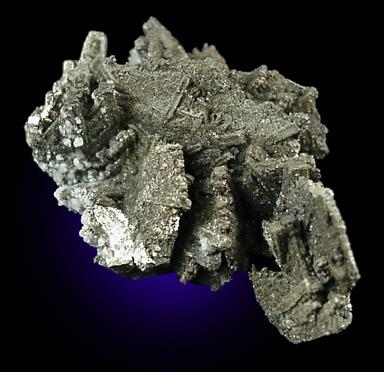pyrite: (25, 18, 360, 344)
